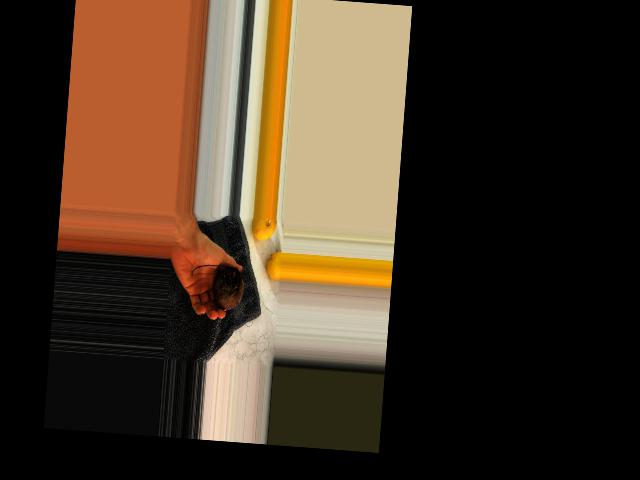beet: (189, 264, 245, 311)
